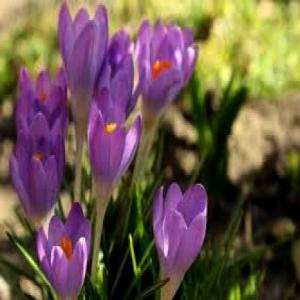Saffron: (59, 0, 108, 124), (156, 184, 209, 298), (138, 19, 192, 130), (10, 127, 64, 236), (88, 106, 144, 203), (36, 203, 90, 300)
